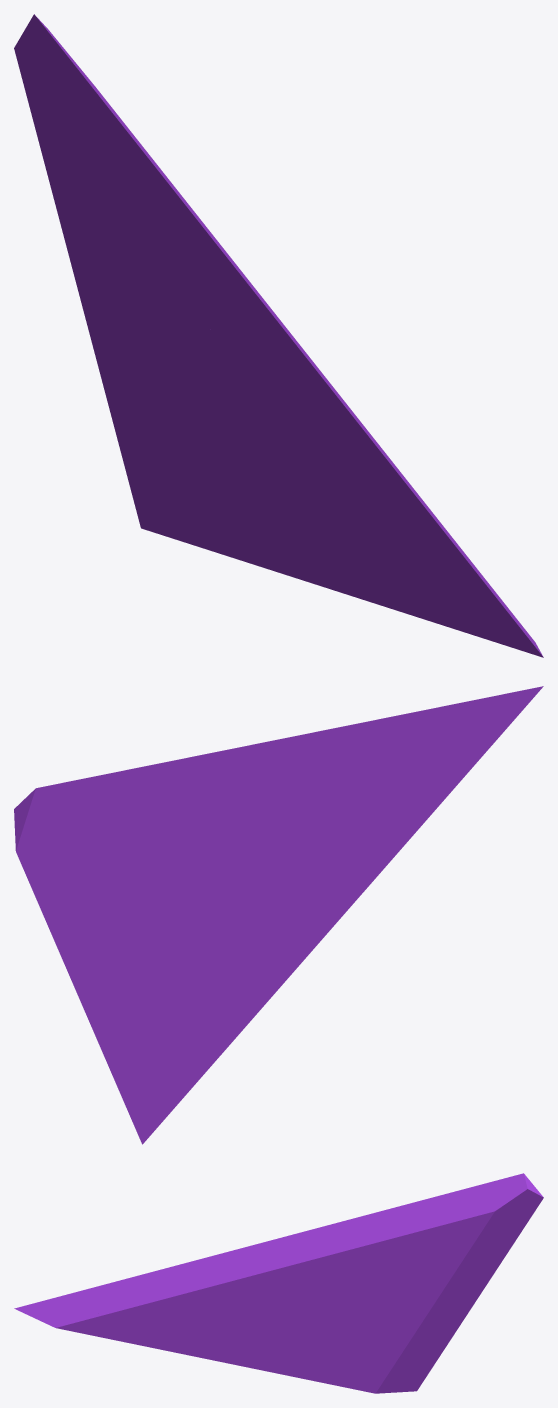
The model's file is Window_45_2_chunks.fbx.
3 renders of one model, top to bottom at view 1: azimuth 30°, elevation 25°; view 2: azimuth 150°, elevation 25°; view 3: azimuth 270°, elevation 25°, orthographic. The views are drawn at different scales.
Parts seen in each view (by area): view 1: Window_45_2_0, Window_45_2_1, Window_45_2_4, Window_45_2_5, Window_45_2_3, Window_45_2_2; view 2: Window_45_2_0, Window_45_2_1, Window_45_2_4, Window_45_2_3, Window_45_2_5, Window_45_2_2; view 3: Window_45_2_0, Window_45_2_1, Window_45_2_2, Window_45_2_4, Window_45_2_5, Window_45_2_3, Window_45_2_6.
Boxes of the visible parts, <box> form: Window_45_2_0: <box>14,14,222,537</box>; Window_45_2_1: <box>211,258,543,657</box>; Window_45_2_4: <box>172,390,291,574</box>; Window_45_2_5: <box>286,535,537,646</box>; Window_45_2_3: <box>248,414,417,575</box>; Window_45_2_2: <box>139,147,288,330</box>; Window_45_2_0: <box>14,767,223,1144</box>; Window_45_2_1: <box>212,686,543,886</box>; Window_45_2_4: <box>173,875,292,1109</box>; Window_45_2_3: <box>249,788,418,930</box>; Window_45_2_5: <box>287,755,483,979</box>; Window_45_2_2: <box>140,749,227,844</box>; Window_45_2_0: <box>345,1173,543,1392</box>; Window_45_2_1: <box>14,1224,330,1320</box>; Window_45_2_2: <box>300,1201,421,1299</box>; Window_45_2_4: <box>272,1297,393,1393</box>; Window_45_2_5: <box>41,1310,278,1373</box>; Window_45_2_3: <box>120,1291,286,1336</box>; Window_45_2_6: <box>250,1289,334,1351</box>.
Size of the model in its own units: 27.2 by 344 by 758.
